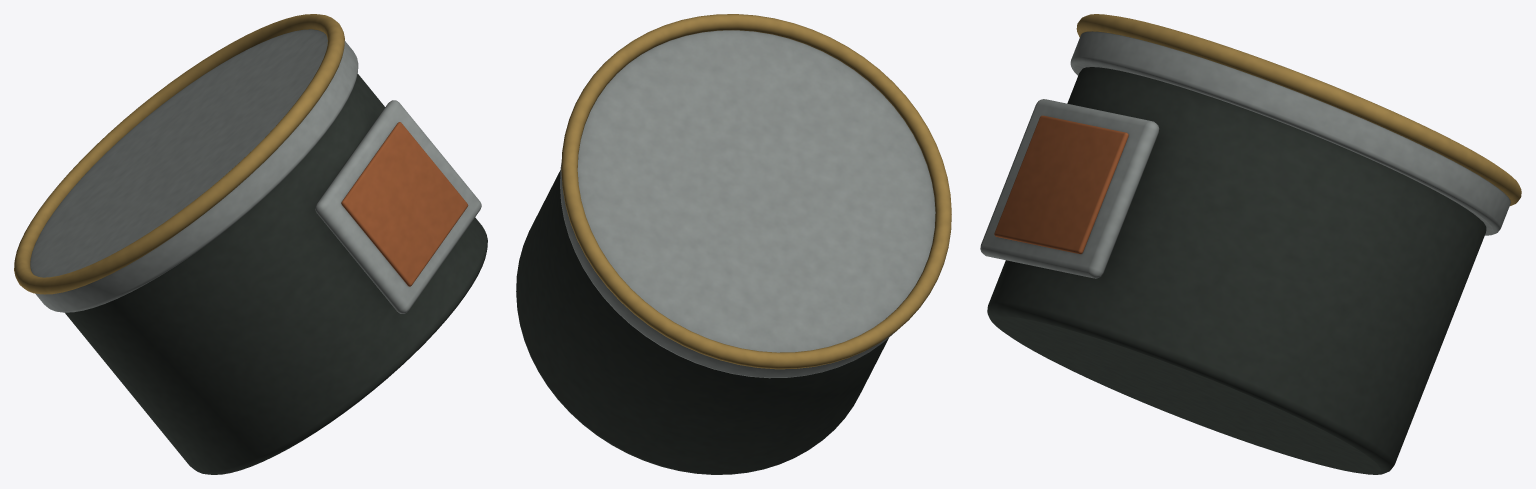
3 views of the same model, side by side, from view 1: azimuth 30°, elevation 25°; view 2: azimuth 150°, elevation 25°; view 3: azimuth 270°, elevation 25° (orthographic). The views are drawn at different scales.
Parts seen in each view (by area): view 1: Closed sample vessel; view 2: Closed sample vessel; view 3: Closed sample vessel.
Boxes of the visible parts, x1=… form: Closed sample vessel: x1=14, y1=14, x2=487, y2=474; Closed sample vessel: x1=516, y1=14, x2=951, y2=474; Closed sample vessel: x1=980, y1=14, x2=1521, y2=474.
Bounding box in the file's own units: 1.1 × 1.05 × 1.09.
Materials: 1 (1 with a texture image).
